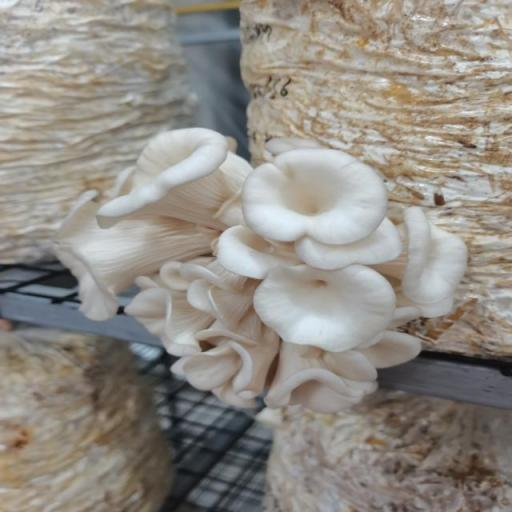White Oyster Mushroom: (53, 117, 478, 423)
